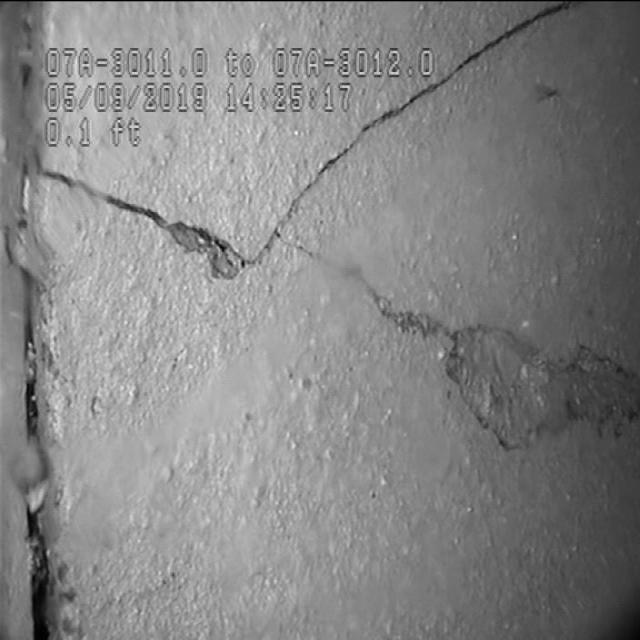Crack: (68, 147, 349, 319)
